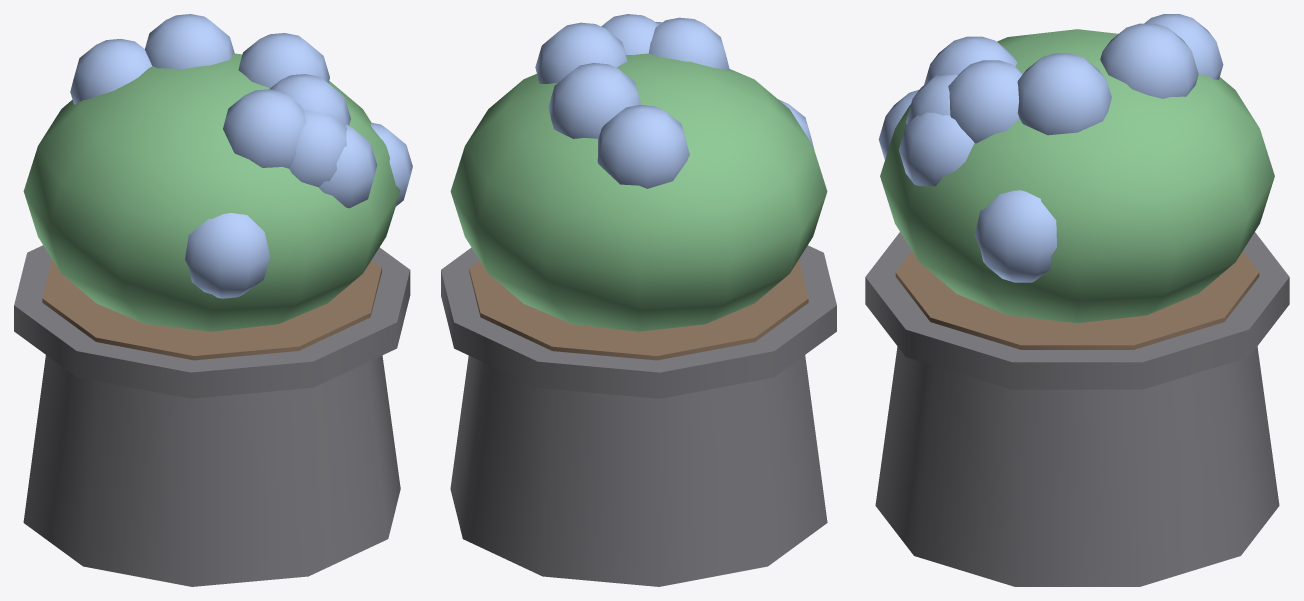
Rendered from Kerb_PlanterBasalt.fbx.
The picture shows the model from 3 angles, left to right: view 1: azimuth 30°, elevation 25°; view 2: azimuth 150°, elevation 25°; view 3: azimuth 270°, elevation 25°; orthographic projection. The views are drawn at different scales.
Parts seen in each view (by area): view 1: Kerb_PlanterBasalt; view 2: Kerb_PlanterBasalt; view 3: Kerb_PlanterBasalt.
Part boxes in pixels (left/top/right/bottom): Kerb_PlanterBasalt: left=14, top=14, right=412, bottom=586; Kerb_PlanterBasalt: left=441, top=14, right=836, bottom=586; Kerb_PlanterBasalt: left=865, top=14, right=1289, bottom=586.
Bounding box in the file's own units: 0.8 × 1.05 × 0.84.
